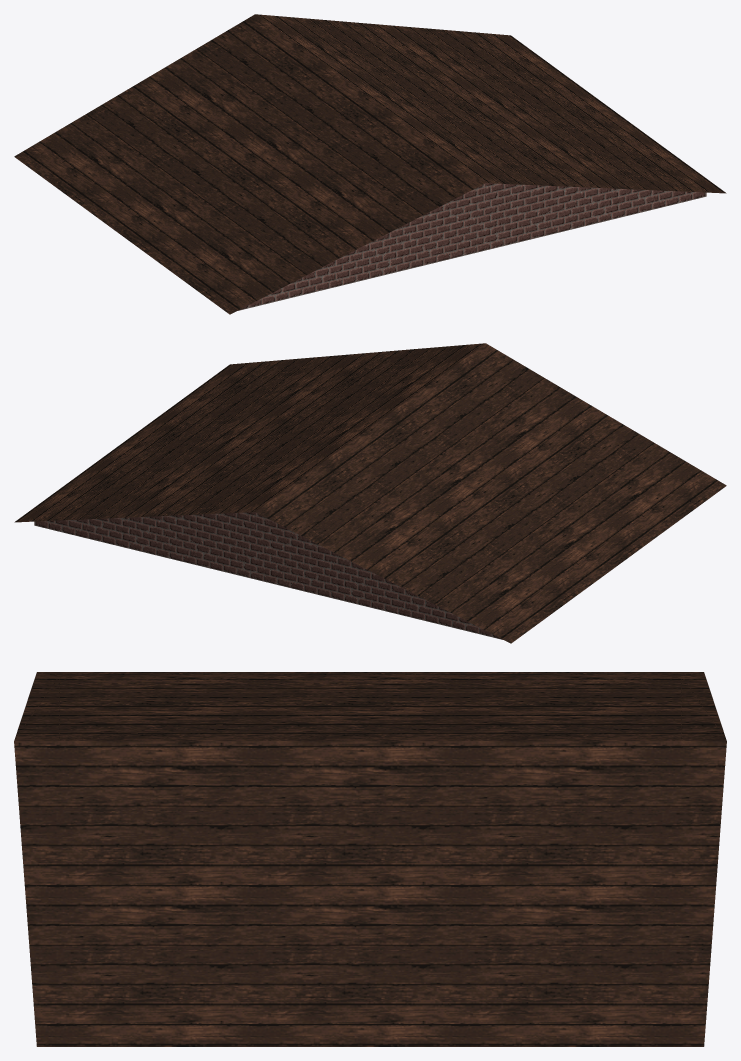
Rendered from PWRROOF1.obj.
3 views of the same model, one above another, from view 1: azimuth 30°, elevation 25°; view 2: azimuth 150°, elevation 25°; view 3: azimuth 270°, elevation 25° (orthographic). The views are drawn at different scales.
Visible parts, largest first — view 1: roof1; view 2: roof1; view 3: roof1.
Boxes of the visible parts, x1=… form: roof1: x1=14, y1=14, x2=726, y2=314; roof1: x1=14, y1=343, x2=726, y2=643; roof1: x1=14, y1=672, x2=726, y2=1046.
Size of the model in its own units: 388 by 61 by 312.
